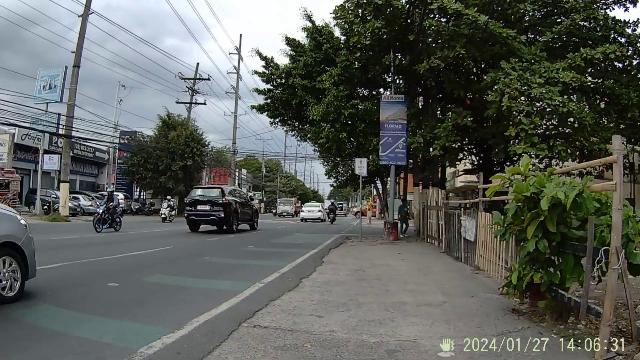street_sign: (344, 148, 378, 240)
utility_post: (376, 84, 408, 244), (222, 32, 248, 142), (170, 58, 213, 116)
